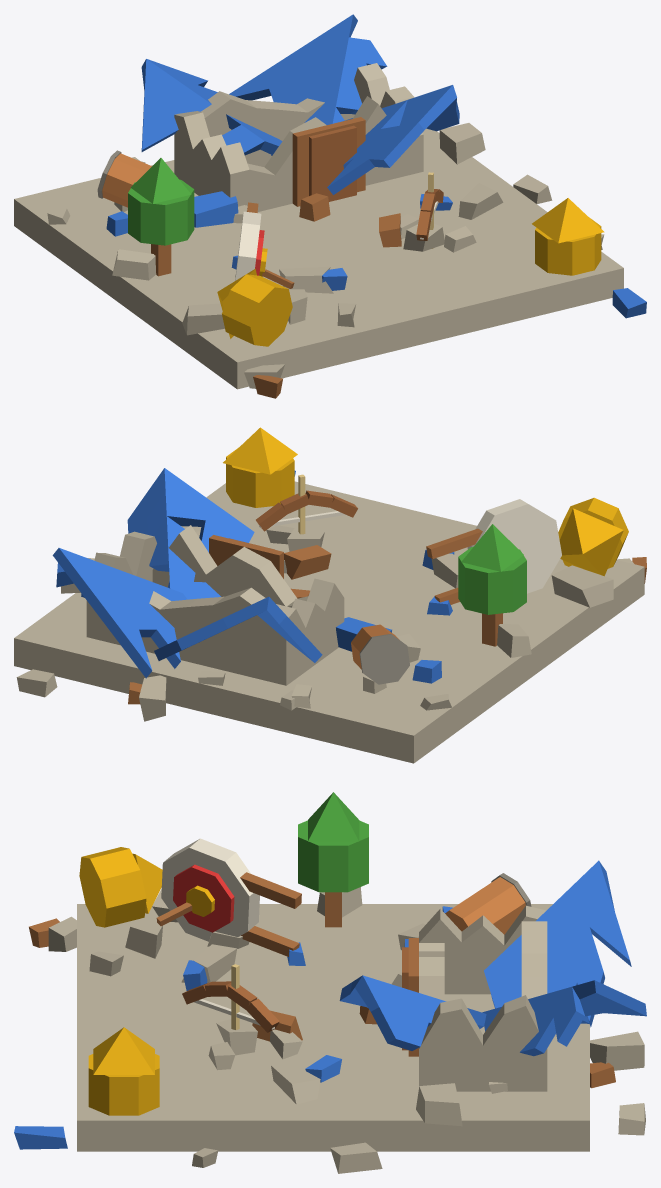
The model's file is archery_range_t1_v2_dmg2.glb.
3 views of the same model, one above another, from view 1: azimuth 30°, elevation 25°; view 2: azimuth 150°, elevation 25°; view 3: azimuth 270°, elevation 25° (orthographic). The views are drawn at different scales.
Visible parts, largest first — view 1: archery_range_t1_v2_dmg2; view 2: archery_range_t1_v2_dmg2; view 3: archery_range_t1_v2_dmg2.
Boxes of the visible parts, box(x1,y1,x2,y2) form: archery_range_t1_v2_dmg2: box(14, 14, 646, 398); archery_range_t1_v2_dmg2: box(14, 427, 646, 763); archery_range_t1_v2_dmg2: box(14, 792, 646, 1173).
Size of the model in its own units: 0.6809 by 0.21 by 0.7405.
Materials: 1 (1 with a texture image).
